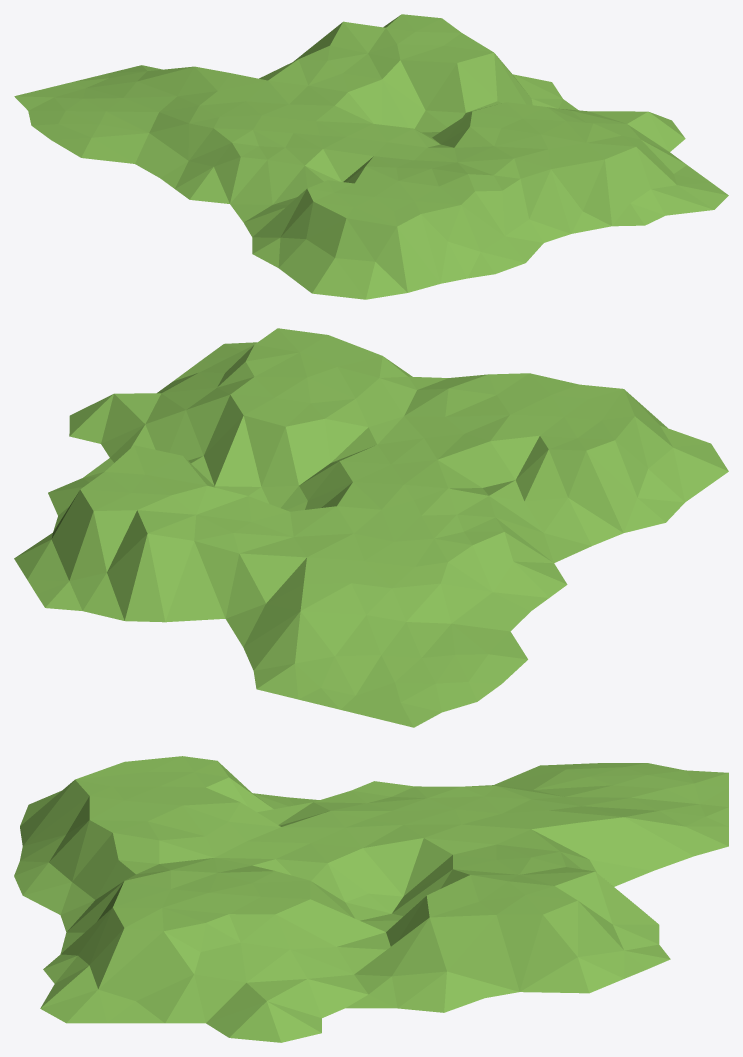
The model's file is MT_Mountain_M_c_15.fbx.
The picture shows the model from 3 angles, top to bottom: view 1: azimuth 30°, elevation 25°; view 2: azimuth 150°, elevation 25°; view 3: azimuth 270°, elevation 25°; orthographic projection. The views are drawn at different scales.
Parts seen in each view (by area): view 1: MT_Mountain_M_c_15; view 2: MT_Mountain_M_c_15; view 3: MT_Mountain_M_c_15.
Part boxes in pixels (x1,y1,x2,y2): MT_Mountain_M_c_15: (14,14,728,299); MT_Mountain_M_c_15: (14,328,728,727); MT_Mountain_M_c_15: (14,756,728,1042).
Size of the model in its own units: 4453 by 443 by 4805.
